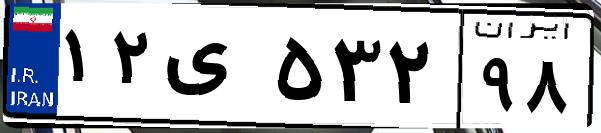1: (57, 26, 110, 100)
2: (385, 28, 445, 110), (110, 28, 158, 98)
3: (330, 28, 385, 110)
5: (270, 28, 330, 110)
8: (525, 38, 570, 115)
9: (475, 38, 525, 113)
ی: (158, 20, 270, 120)
